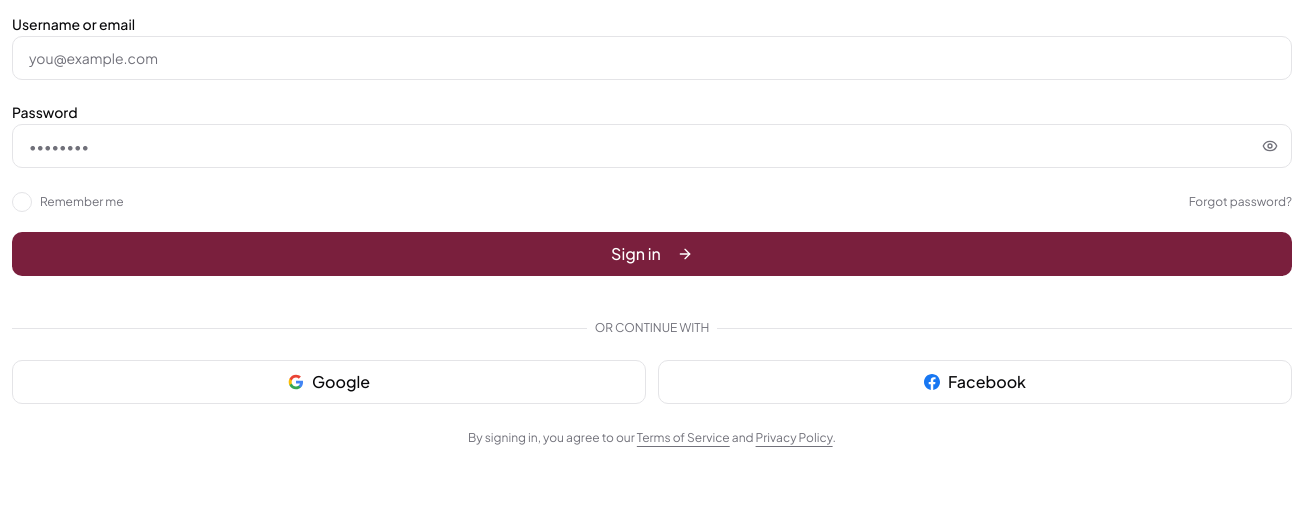
Test: LoginForm (F8.2) › shows Zod validation errors when submitting empty form
The image size is (1304, 512).
Click the button "Sign in" at (652, 254), box [12,232,1292,276]
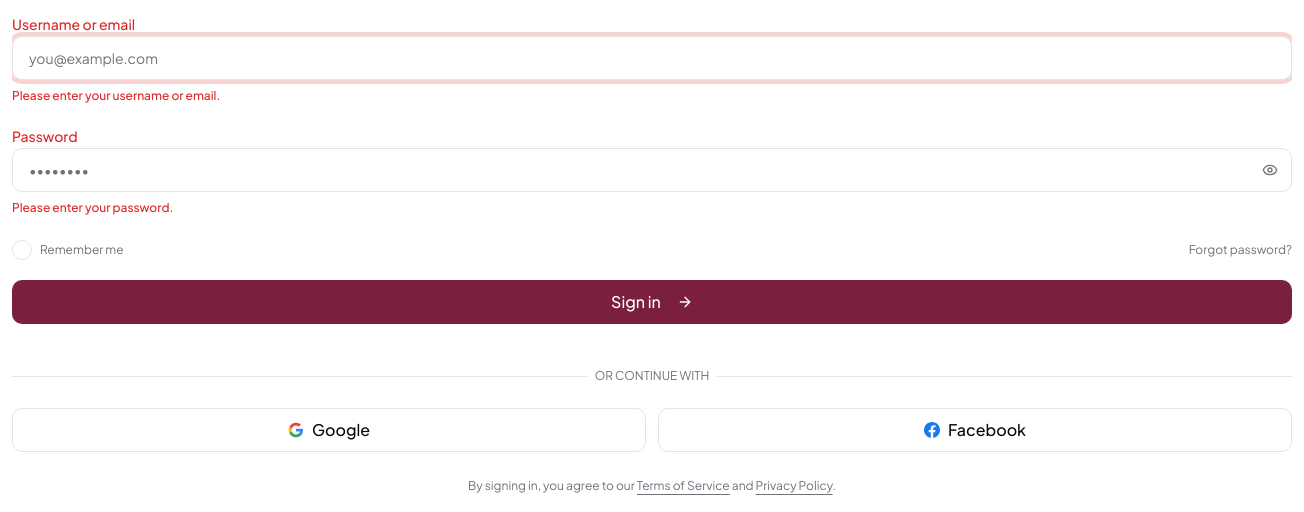
Expected: the text "Please enter your username or email." is shown, [12,88,220,103]
Expected: the text "Please enter your password." is shown, [12,200,173,215]
